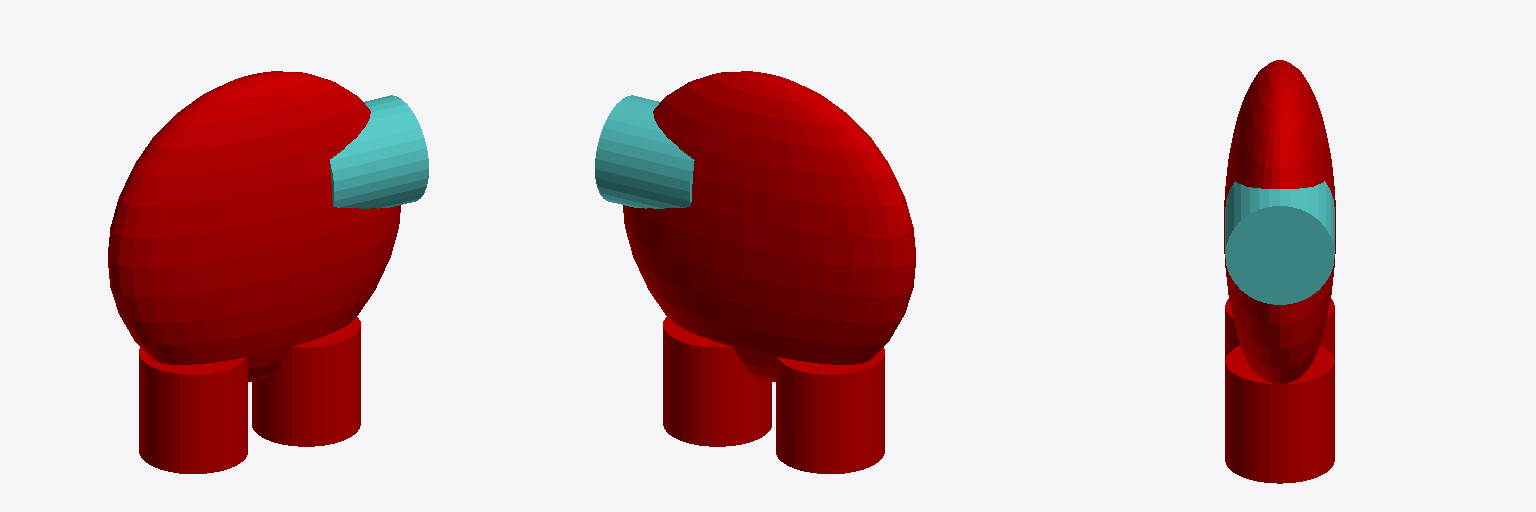
Rendered from bean.obj.
3 views of the same model, side by side, from view 1: azimuth 30°, elevation 25°; view 2: azimuth 150°, elevation 25°; view 3: azimuth 270°, elevation 25° (orthographic).
Visible parts, largest first — view 1: Sphere, Cylinder.001, Cylinder, Cylinder.002; view 2: Sphere, Cylinder.001, Cylinder, Cylinder.002; view 3: Sphere, Cylinder, Cylinder.002, Cylinder.001.
Boxes of the visible parts, <box> form: Sphere: <box>108,71,400,381</box>; Cylinder.001: <box>139,347,247,473</box>; Cylinder: <box>252,317,360,446</box>; Cylinder.002: <box>329,95,428,208</box>; Sphere: <box>623,71,915,381</box>; Cylinder.001: <box>776,347,884,473</box>; Cylinder: <box>663,317,771,446</box>; Cylinder.002: <box>595,95,694,208</box>; Sphere: <box>1224,60,1335,384</box>; Cylinder: <box>1225,345,1334,483</box>; Cylinder.002: <box>1225,181,1334,304</box>; Cylinder.001: <box>1225,299,1334,359</box>.
Size of the model in its own units: 6.15 by 7.25 by 2.06.